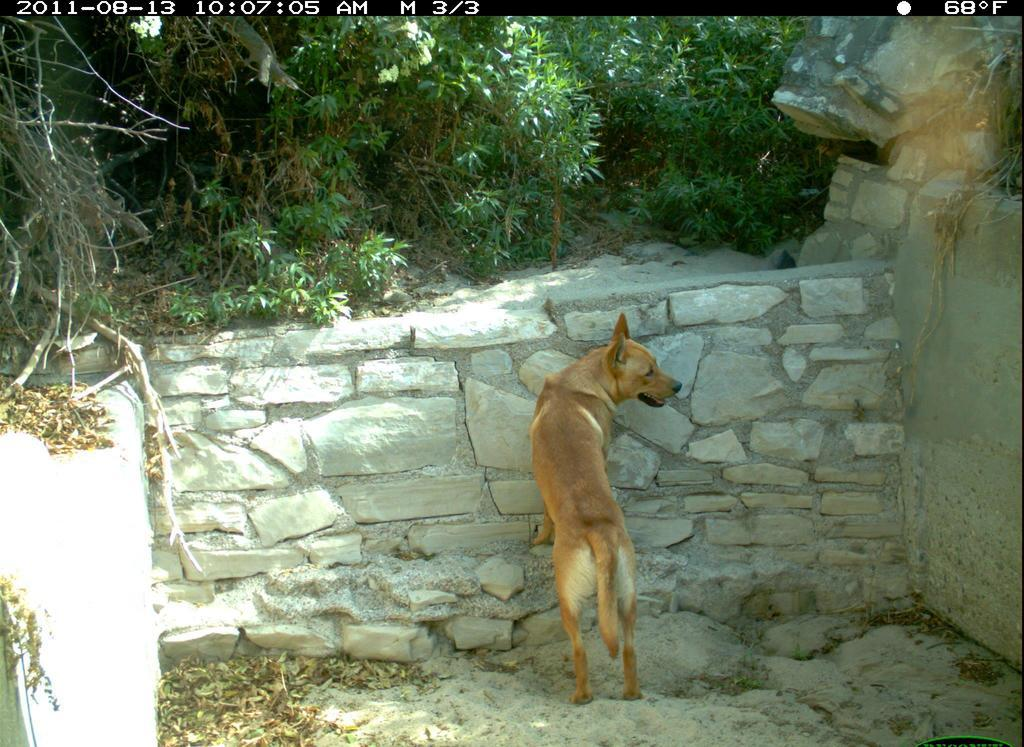dog: (527, 306, 687, 711)
